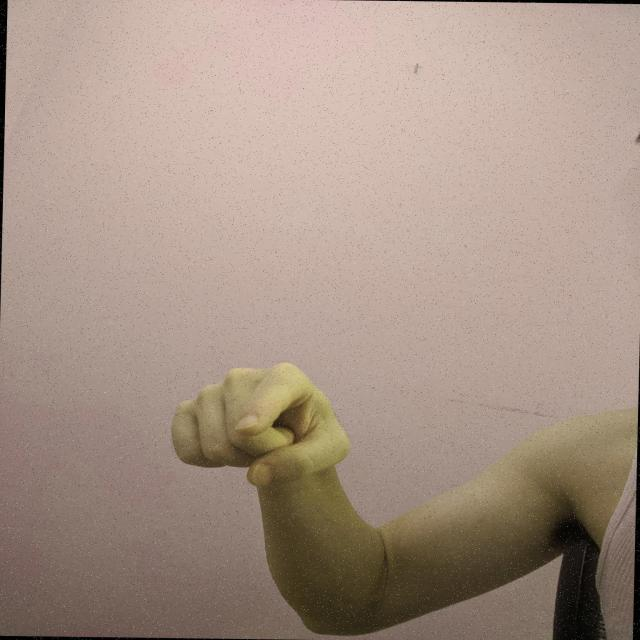Z: (164, 357, 357, 493)
